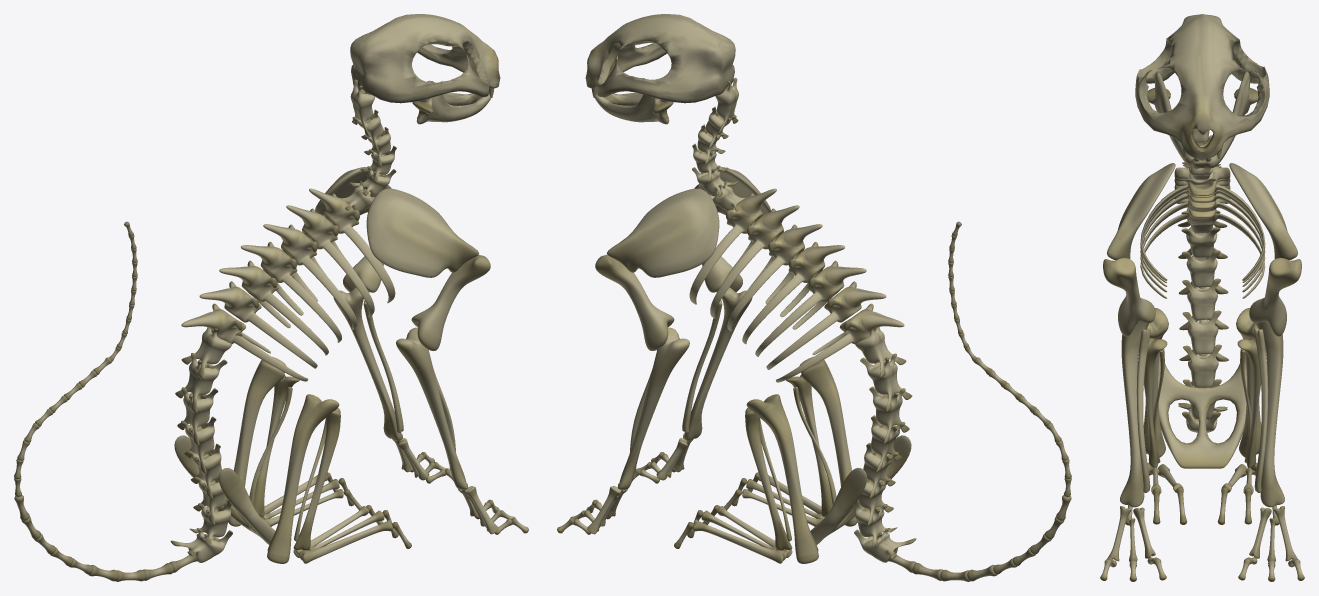
The model's file is skelly.fbx.
The picture shows the model from 3 angles, left to right: view 1: azimuth 30°, elevation 25°; view 2: azimuth 150°, elevation 25°; view 3: azimuth 270°, elevation 25°; orthographic projection. The views are drawn at different scales.
Parts seen in each view (by area): view 1: CatSkeleton; view 2: CatSkeleton; view 3: CatSkeleton.
Part boxes in pixels (<box>): CatSkeleton: <box>14,14,528,581</box>; CatSkeleton: <box>557,14,1071,581</box>; CatSkeleton: <box>1100,14,1304,581</box>.
Size of the model in its own units: 792 by 783 by 278.
